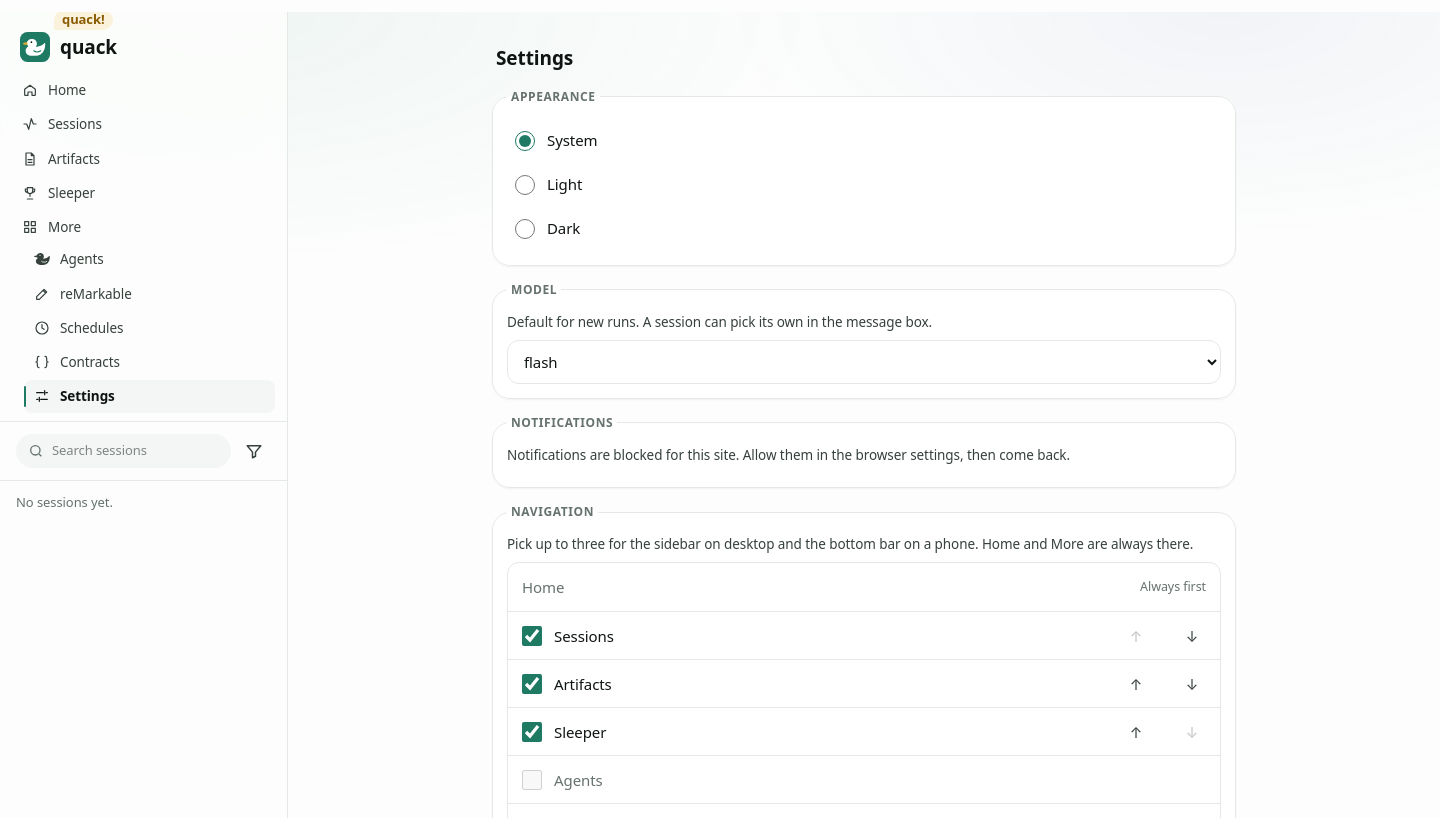
Test: the Settings page names a refused default
Select "big" in the dropdown labelled "Default for new runs" at (864, 362), box [507,340,1221,384]
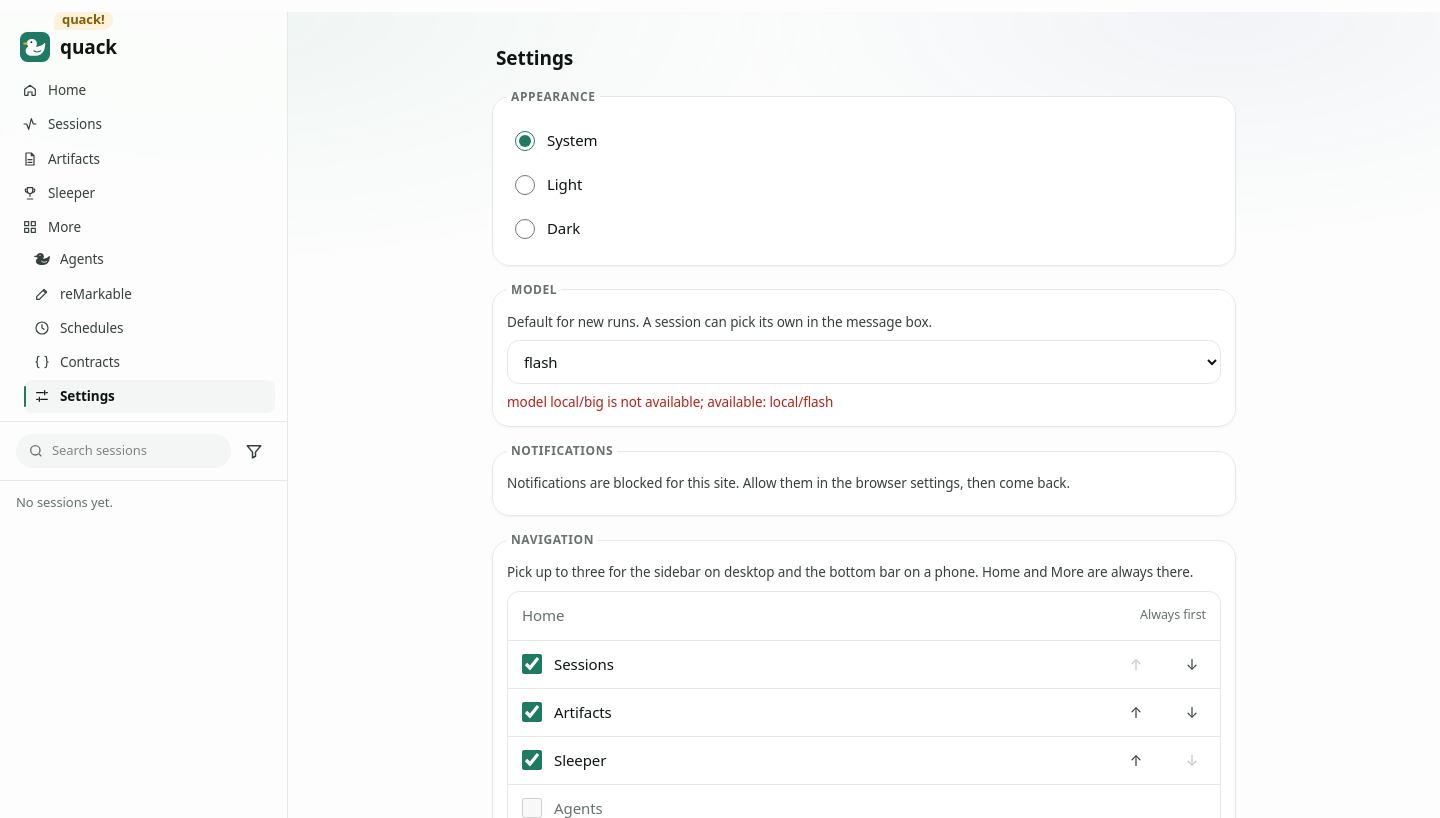
Check: the message shows "model local/big is not available", box [507,393,833,411]
